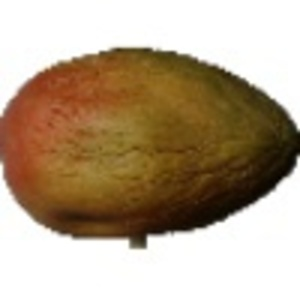mamão: (2, 42, 298, 241)
